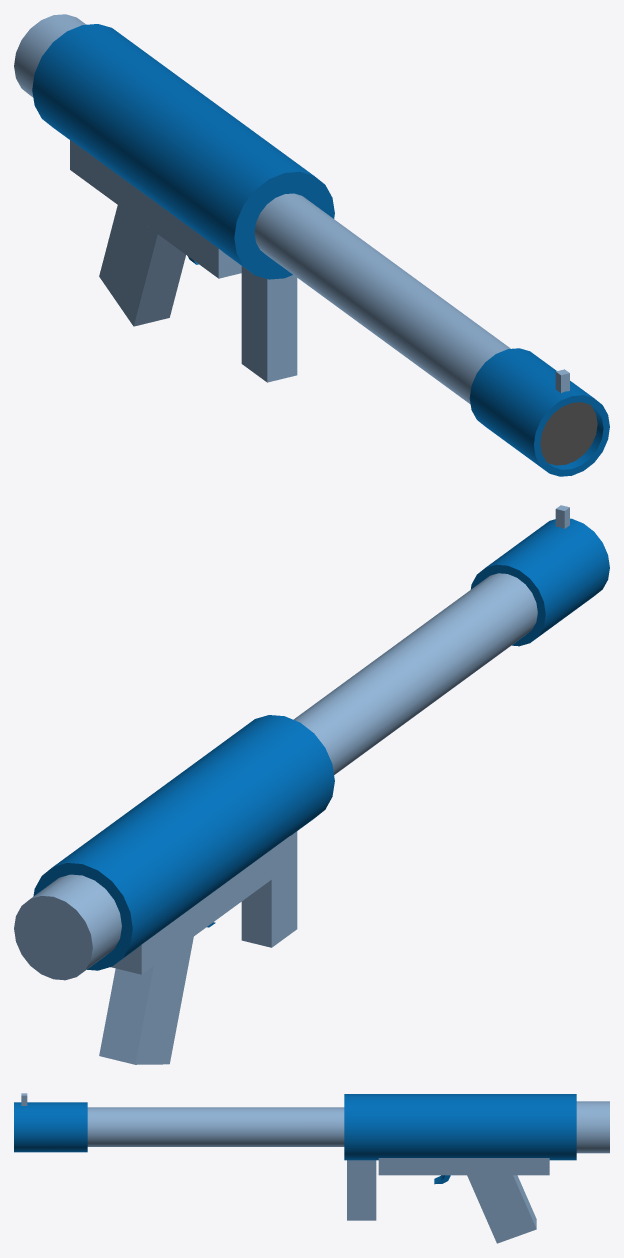
The model's file is Blue gun.fbx.
3 views of the same model, one above another, from view 1: azimuth 30°, elevation 25°; view 2: azimuth 150°, elevation 25°; view 3: azimuth 270°, elevation 25° (orthographic). The views are drawn at different scales.
Parts seen in each view (by area): view 1: pCylinder2, pCylinder1, pCube3, pCube5, pCube2, pCylinder3; view 2: pCylinder2, pCylinder1, pCylinder3, pCube3, pCube2, pCube5; view 3: pCylinder2, pCylinder1, pCube3, pCube2, pCube5, pCylinder3.
Part boxes in pixels (<box>): pCylinder2: <box>32,24,334,279</box>; pCylinder1: <box>254,193,609,476</box>; pCube3: <box>99,205,185,326</box>; pCube5: <box>241,266,297,382</box>; pCube2: <box>70,140,241,278</box>; pCylinder3: <box>14,14,85,97</box>; pCylinder2: <box>33,715,334,970</box>; pCylinder1: <box>293,518,609,774</box>; pCylinder3: <box>14,874,121,980</box>; pCube3: <box>99,936,193,1064</box>; pCube2: <box>110,836,290,974</box>; pCube5: <box>241,831,297,947</box>; pCylinder2: <box>344,1094,576,1160</box>; pCylinder1: <box>14,1102,344,1152</box>; pCube3: <box>467,1175,536,1243</box>; pCube2: <box>378,1158,549,1175</box>; pCube5: <box>347,1160,376,1220</box>; pCylinder3: <box>576,1101,609,1153</box>.
Bounding box in the file's own units: 3.34 × 7.96 × 29.83.
